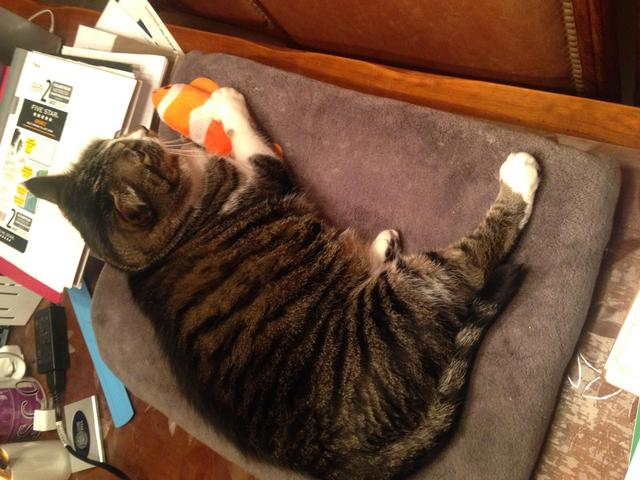clownfish: (151, 75, 282, 165)
playdoh: (21, 87, 539, 476)
